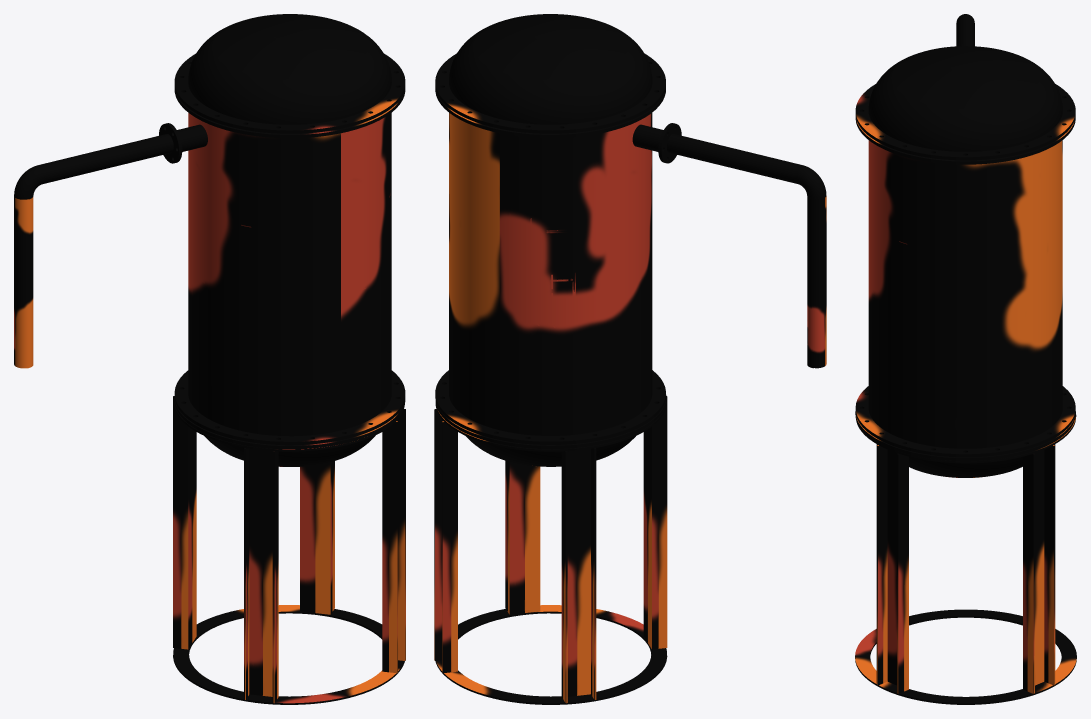
Rendered from Last.fbx.
3 views of the same model, side by side, from view 1: azimuth 30°, elevation 25°; view 2: azimuth 150°, elevation 25°; view 3: azimuth 270°, elevation 25° (orthographic). The views are drawn at different scales.
Visible parts, largest first — view 1: Пятый блок\Корпус холодильника.004, Третий-четвертый блок\Твердое т.058, Пятый блок\Крышка верх холодиль.003, Червертый блок Теплообменник-ра.030, Пятый блок\Крышка ниж холодильн.003, Червертый блок Теплообменник-ра.029; view 2: Пятый блок\Корпус холодильника.004, Третий-четвертый блок\Твердое т.058, Пятый блок\Крышка верх холодиль.003, Червертый блок Теплообменник-ра.030, Пятый блок\Крышка ниж холодильн.003, Червертый блок Теплообменник-ра.029; view 3: Пятый блок\Корпус холодильника.004, Третий-четвертый блок\Твердое т.058, Пятый блок\Крышка верх холодиль.003, Пятый блок\Крышка ниж холодильн.003, Червертый блок Теплообменник-ра.030.
Boxes of the visible parts, bbox=[...] form: Пятый блок\Корпус холодильника.004: bbox=[159, 88, 405, 445]; Третий-четвертый блок\Твердое т.058: bbox=[173, 396, 405, 704]; Пятый блок\Крышка верх холодиль.003: bbox=[174, 14, 405, 133]; Червертый блок Теплообменник-ра.030: bbox=[14, 134, 173, 368]; Пятый блок\Крышка ниж холодильн.003: bbox=[174, 397, 405, 466]; Червертый блок Теплообменник-ра.029: bbox=[27, 147, 173, 368]; Пятый блок\Корпус холодильника.004: bbox=[435, 88, 681, 444]; Третий-четвертый блок\Твердое т.058: bbox=[434, 396, 667, 704]; Пятый блок\Крышка верх холодиль.003: bbox=[435, 14, 665, 133]; Червертый блок Теплообменник-ра.030: bbox=[667, 134, 826, 368]; Пятый блок\Крышка ниж холодильн.003: bbox=[435, 395, 666, 466]; Червертый блок Теплообменник-ра.029: bbox=[667, 147, 813, 368]; Пятый блок\Корпус холодильника.004: bbox=[855, 117, 1075, 457]; Третий-четвертый блок\Твердое т.058: bbox=[855, 411, 1076, 704]; Пятый блок\Крышка верх холодиль.003: bbox=[855, 46, 1075, 160]; Пятый блок\Крышка ниж холодильн.003: bbox=[855, 411, 1075, 477]; Червертый блок Теплообменник-ра.030: bbox=[956, 14, 974, 46].
Size of the model in its own units: 95634 by 151531 by 51391.
